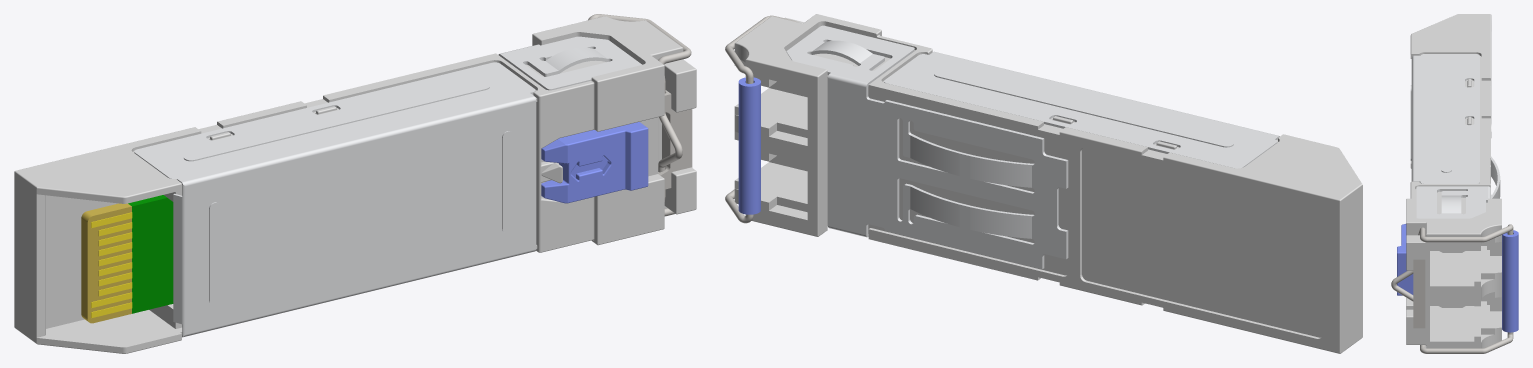
The model's file is Оптический модуль.glb.
3 renders of one model, left to right at view 1: azimuth 30°, elevation 25°; view 2: azimuth 150°, elevation 25°; view 3: azimuth 270°, elevation 25°, orthographic. The views are drawn at different scales.
Visible parts, largest first — view 1: Subassembly_1; view 2: Subassembly_1; view 3: Subassembly_1.
Part boxes in pixels (x1,y1,x2,y2): Subassembly_1: (14,14,696,353); Subassembly_1: (725,14,1362,353); Subassembly_1: (1391,14,1518,353).
Size of the model in its own units: 57.2 by 14.63 by 13.68.
